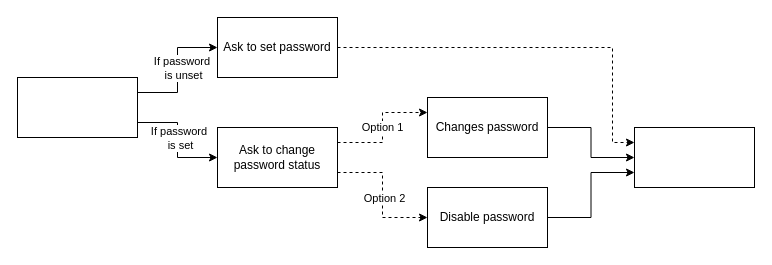
Some shapes in this 772 by 265 pixel diagram are drawn without their labels. Here are the shapes that lost their labels. From the top down, the box of each, then its label:
(16, 76, 138, 138): Reads config file
(634, 126, 754, 188): Updates config file
